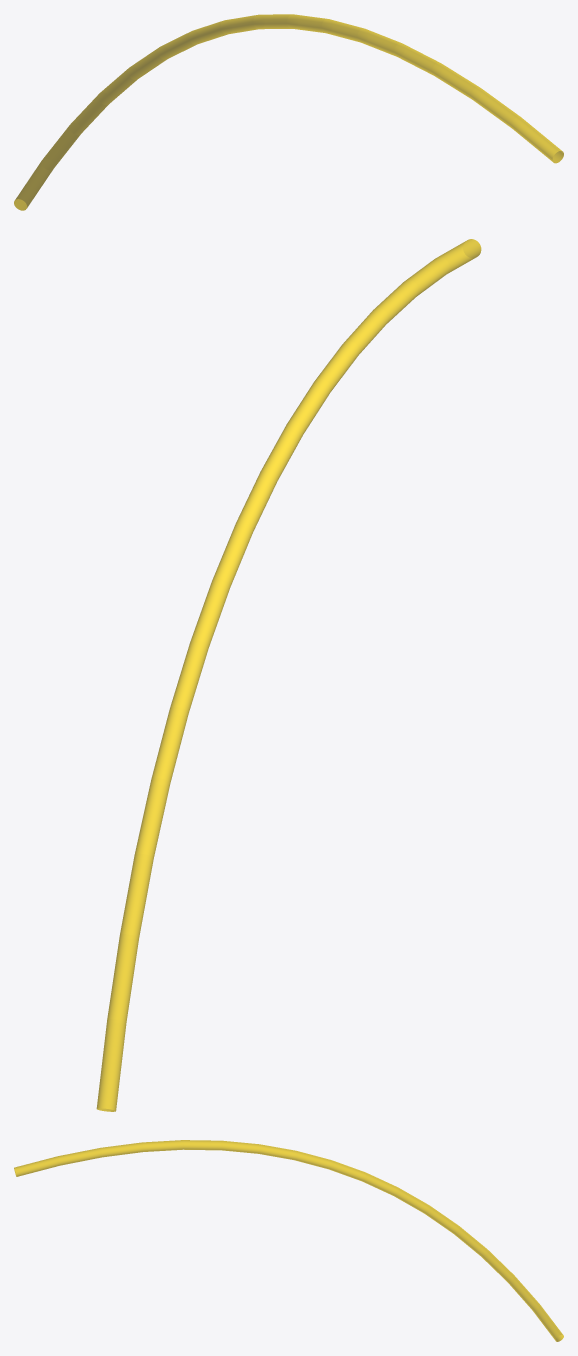
File: Event_84804159_track_5.fbx
The picture shows the model from 3 angles, top to bottom: view 1: azimuth 30°, elevation 25°; view 2: azimuth 150°, elevation 25°; view 3: azimuth 270°, elevation 25°; orthographic projection. The views are drawn at different scales.
Visible parts, largest first — view 1: Model; view 2: Model; view 3: Model.
Part boxes in pixels (<box>): Model: <box>14,14,563,210</box>; Model: <box>96,239,481,1111</box>; Model: <box>14,1140,563,1341</box>.
Bounding box in the file's own units: 0.4606 × 1.05 × 2.24.
